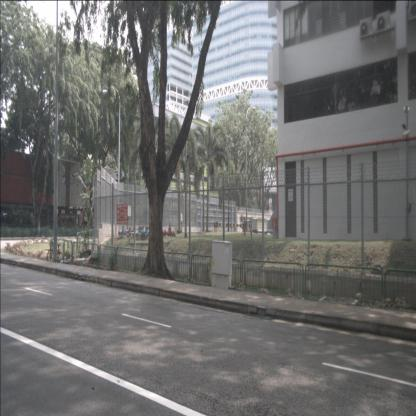vehicle-bicycle: (48, 237, 64, 265)
